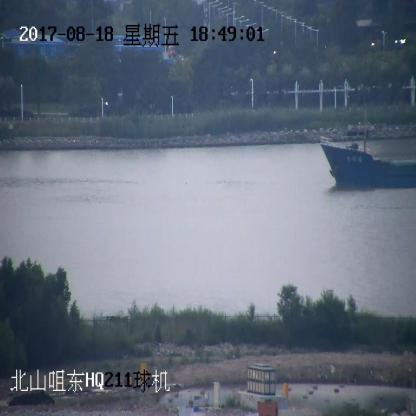Bulk Carrier: (320, 135, 416, 188)
